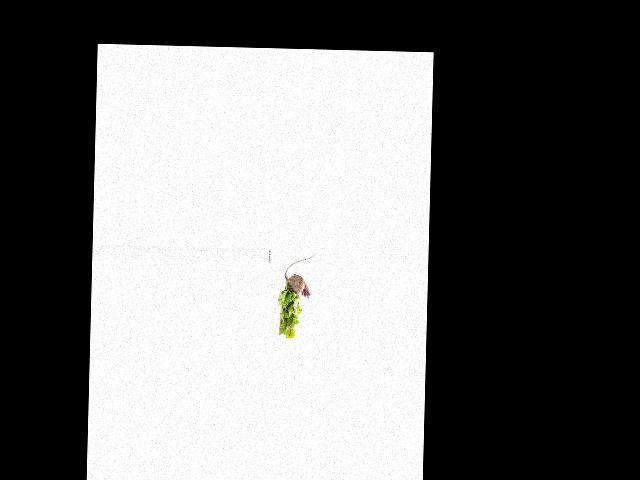beet: (283, 251, 316, 299)
